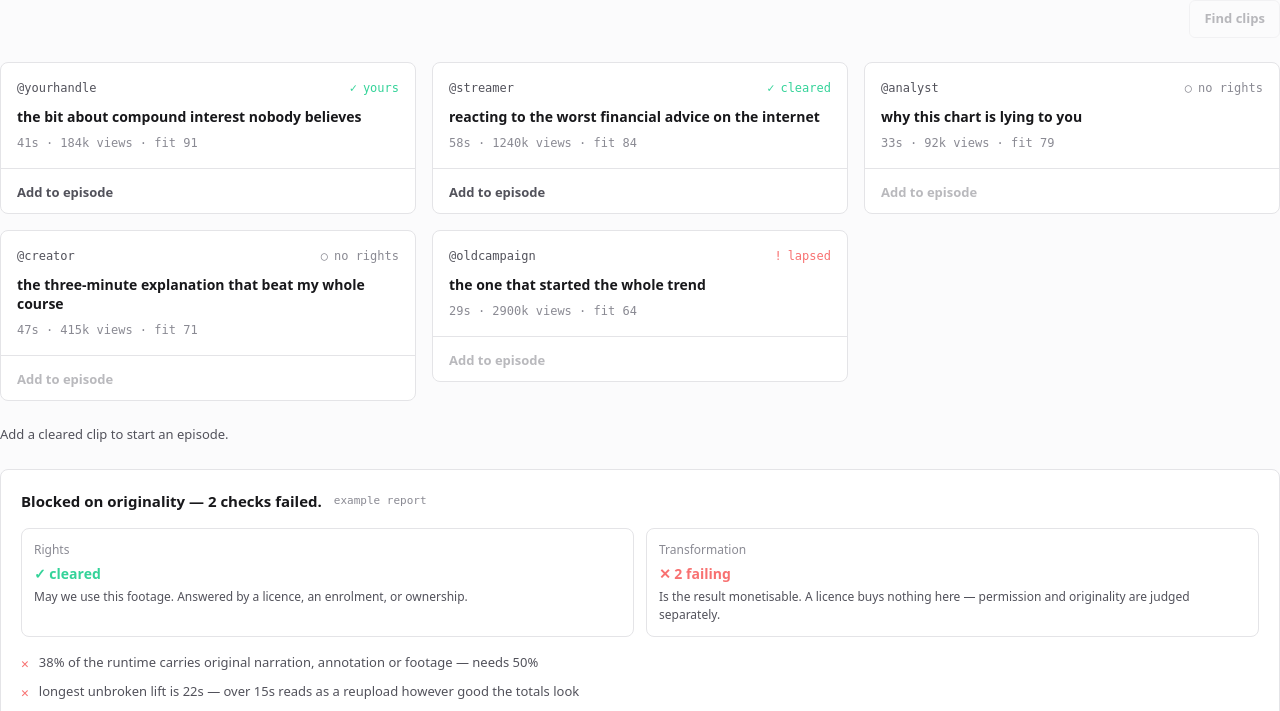
Test case: the rights panel › asks for evidence only where there is a counterparty
The image size is (1280, 711).
Click the text "why this chart is lying to you" at (982, 116), box [881,106,1082,126]
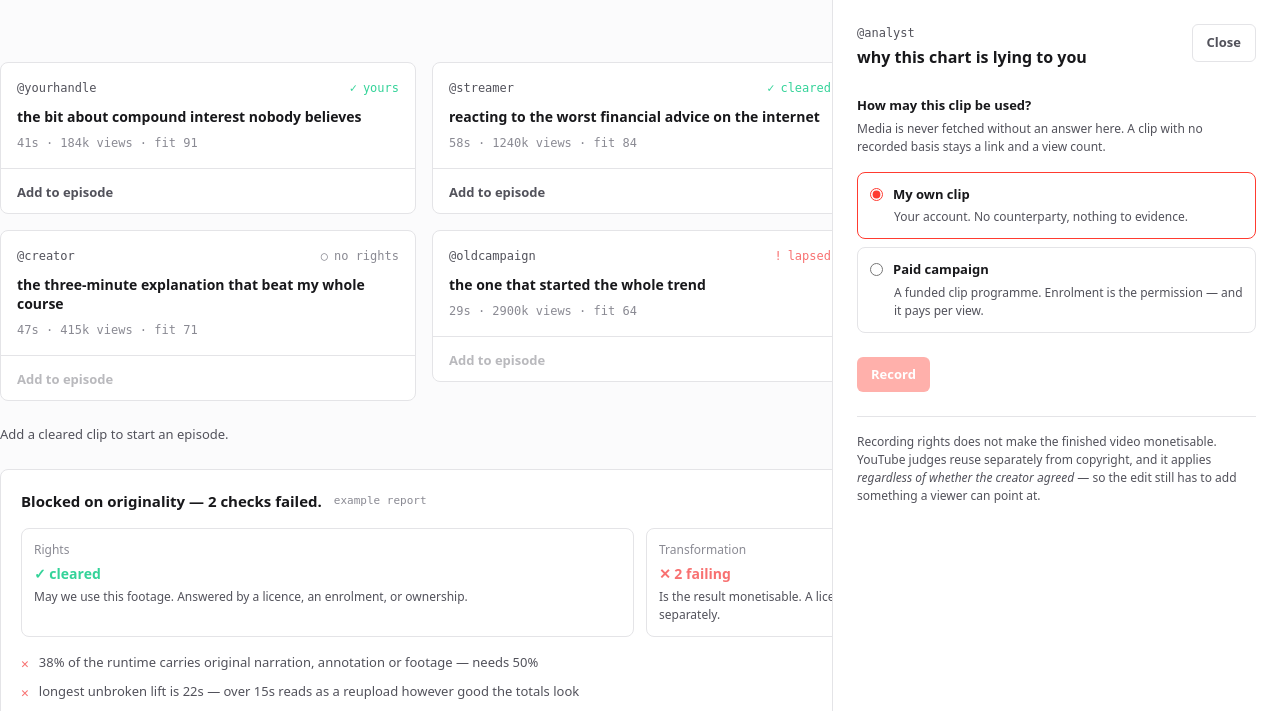
Check: the field with placeholder "https://…" is not shown
Click the radio button labelled "Paid campaign" at (876, 270), box [870,263,883,276]
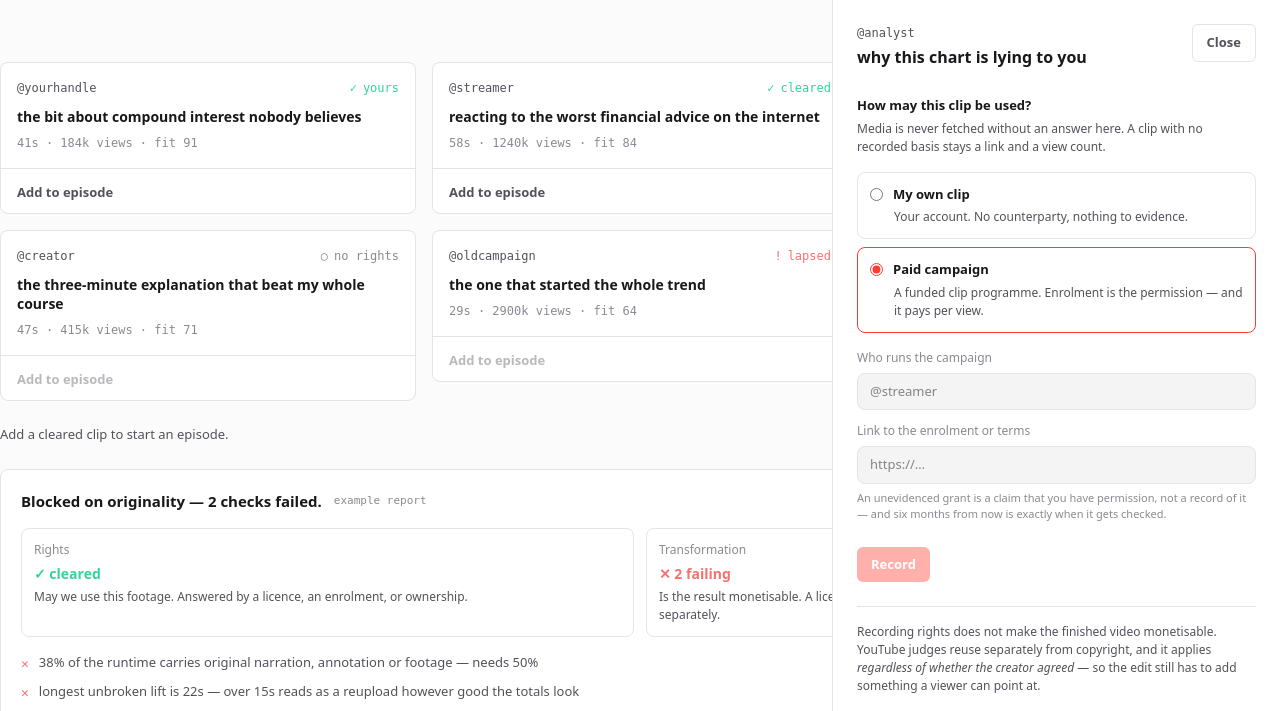
Check: the field with placeholder "https://…" is shown, box [857,446,1256,484]
Check: the text "is a claim that you have permission" is shown, box [857,490,1246,521]
